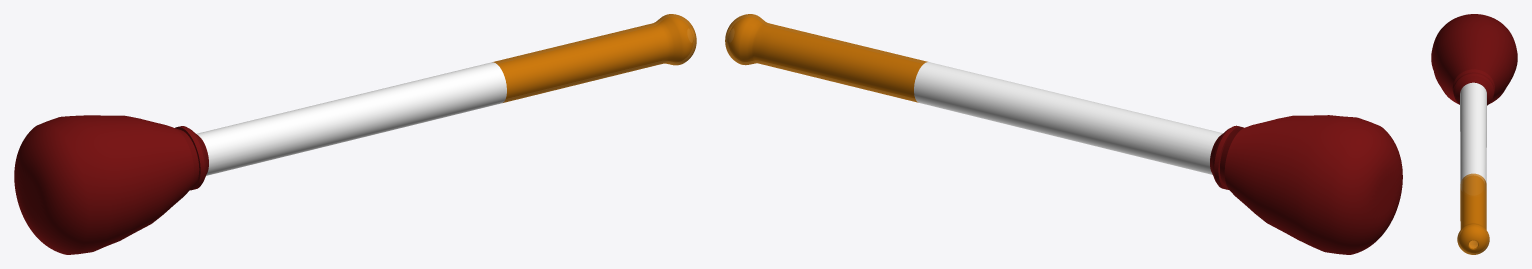
Rendered from pipet tetes 2.fbx.
3 views of the same model, side by side, from view 1: azimuth 30°, elevation 25°; view 2: azimuth 150°, elevation 25°; view 3: azimuth 270°, elevation 25° (orthographic). The views are drawn at different scales.
Visible parts, largest first — view 1: kaca3; view 2: kaca3; view 3: kaca3.
Boxes of the visible parts, <box> form: kaca3: <box>14,14,696,254</box>; kaca3: <box>725,14,1402,254</box>; kaca3: <box>1431,14,1517,254</box>.
Size of the model in its own units: 0.9116 by 0.1664 by 0.1664.
